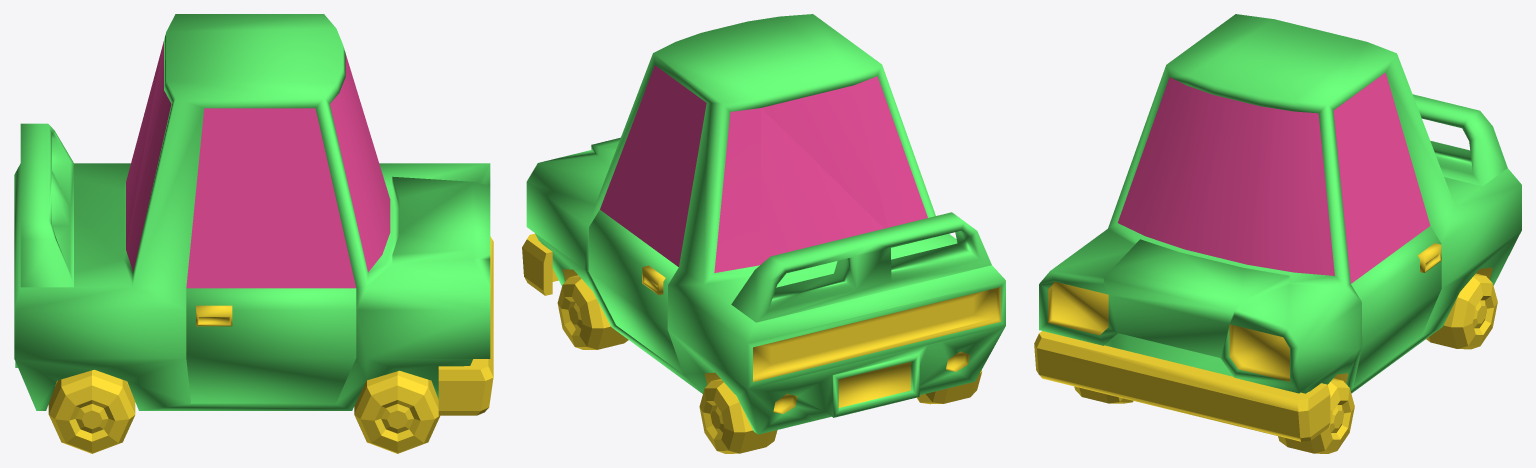
File: Toy207.fbx
The picture shows the model from 3 angles, left to right: view 1: azimuth 30°, elevation 25°; view 2: azimuth 150°, elevation 25°; view 3: azimuth 270°, elevation 25°; orthographic projection. The views are drawn at different scales.
Parts seen in each view (by area): view 1: Toy207; view 2: Toy207; view 3: Toy207.
Boxes of the visible parts, box(x1,y1,x2,y2) form: Toy207: box(14, 14, 493, 453); Toy207: box(522, 14, 1005, 453); Toy207: box(1034, 14, 1521, 453).
Bounding box in the file's own units: 0.2125 × 0.1374 × 0.1923.
